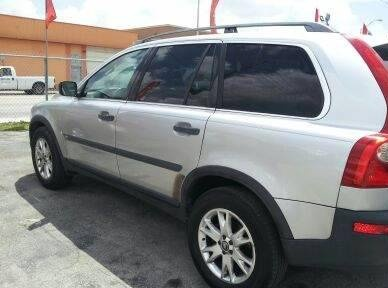volvo: (20, 19, 388, 286)
